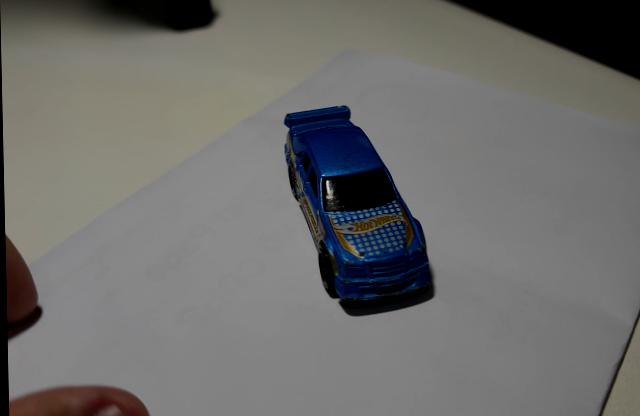04_MERZEDES: (282, 106, 433, 302)
